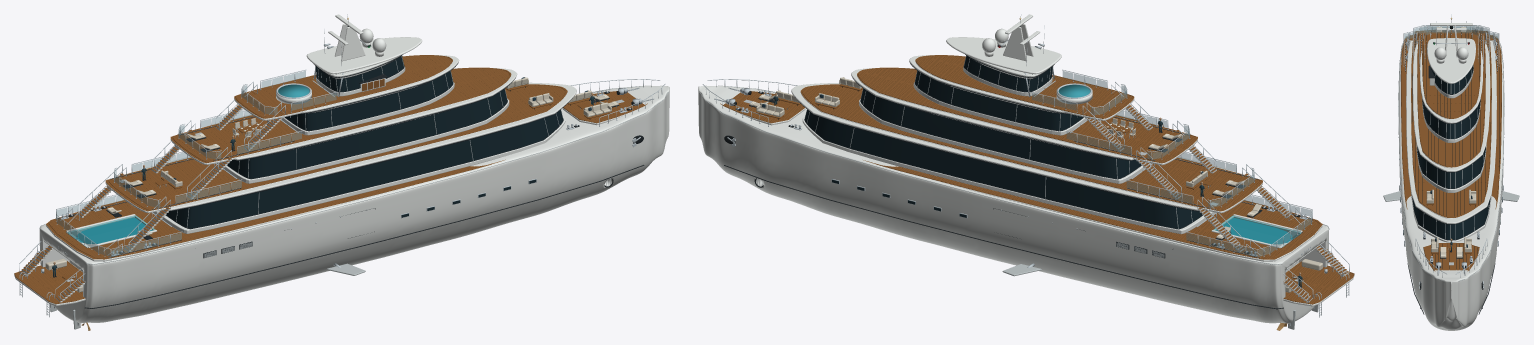
The model's file is ATLAS_256_Exterior_Web.glb.
3 views of the same model, side by side, from view 1: azimuth 30°, elevation 25°; view 2: azimuth 150°, elevation 25°; view 3: azimuth 270°, elevation 25° (orthographic). The views are drawn at different scales.
Visible parts, largest first — view 1: Hull_Web_Mesh, Decks_Web_Mesh, Glazing_Web_Mesh, Superstructure_Web_Mesh, Railings_Web_Mesh, Stern_Web_Mesh, MastElectronics_Web_Mesh, Furniture_Web_Mesh, ExteriorFixtures_Web_Mesh, MooringHardware_Web_Mesh, BeachClub_Web_Mesh, RunningGear_Web_Mesh; view 2: Hull_Web_Mesh, Decks_Web_Mesh, Glazing_Web_Mesh, Superstructure_Web_Mesh, Railings_Web_Mesh, Stern_Web_Mesh, MastElectronics_Web_Mesh, Furniture_Web_Mesh, ExteriorFixtures_Web_Mesh, MooringHardware_Web_Mesh, BeachClub_Web_Mesh, RunningGear_Web_Mesh; view 3: Decks_Web_Mesh, Hull_Web_Mesh, Superstructure_Web_Mesh, Glazing_Web_Mesh, MastElectronics_Web_Mesh, Railings_Web_Mesh, Furniture_Web_Mesh, MooringHardware_Web_Mesh, RunningGear_Web_Mesh, ExteriorFixtures_Web_Mesh, Stern_Web_Mesh.
Part boxes in pixels (x1=…): Hull_Web_Mesh: x1=39, y1=85, x2=669, y2=323; Decks_Web_Mesh: x1=14, y1=55, x2=647, y2=306; Glazing_Web_Mesh: x1=152, y1=56, x2=563, y2=229; Superstructure_Web_Mesh: x1=124, y1=54, x2=576, y2=233; Railings_Web_Mesh: x1=19, y1=69, x2=665, y2=302; Stern_Web_Mesh: x1=19, y1=83, x2=311, y2=302; MastElectronics_Web_Mesh: x1=306, y1=14, x2=422, y2=96; Furniture_Web_Mesh: x1=106, y1=74, x2=619, y2=240; ExteriorFixtures_Web_Mesh: x1=55, y1=99, x2=624, y2=281; MooringHardware_Web_Mesh: x1=41, y1=87, x2=653, y2=293; BeachClub_Web_Mesh: x1=19, y1=241, x2=82, y2=317; RunningGear_Web_Mesh: x1=50, y1=178, x2=613, y2=330; Hull_Web_Mesh: x1=698, y1=85, x2=1329, y2=323; Decks_Web_Mesh: x1=720, y1=55, x2=1354, y2=306; Glazing_Web_Mesh: x1=804, y1=55, x2=1216, y2=229; Superstructure_Web_Mesh: x1=791, y1=54, x2=1243, y2=234; Railings_Web_Mesh: x1=702, y1=69, x2=1349, y2=302; Stern_Web_Mesh: x1=1056, y1=83, x2=1349, y2=302; MastElectronics_Web_Mesh: x1=946, y1=14, x2=1061, y2=97; Furniture_Web_Mesh: x1=749, y1=77, x2=1262, y2=240; ExteriorFixtures_Web_Mesh: x1=743, y1=99, x2=1312, y2=281; MooringHardware_Web_Mesh: x1=714, y1=87, x2=1327, y2=293; BeachClub_Web_Mesh: x1=1285, y1=241, x2=1349, y2=317; RunningGear_Web_Mesh: x1=754, y1=178, x2=1318, y2=330; Decks_Web_Mesh: x1=1400, y1=30, x2=1502, y2=271; Hull_Web_Mesh: x1=1398, y1=34, x2=1504, y2=330; Superstructure_Web_Mesh: x1=1406, y1=41, x2=1496, y2=242; Glazing_Web_Mesh: x1=1399, y1=64, x2=1503, y2=246; MastElectronics_Web_Mesh: x1=1427, y1=14, x2=1475, y2=83; Railings_Web_Mesh: x1=1403, y1=25, x2=1499, y2=277; Furniture_Web_Mesh: x1=1426, y1=27, x2=1476, y2=259; MooringHardware_Web_Mesh: x1=1406, y1=40, x2=1496, y2=289; RunningGear_Web_Mesh: x1=1383, y1=191, x2=1519, y2=308; ExteriorFixtures_Web_Mesh: x1=1398, y1=33, x2=1504, y2=265; Stern_Web_Mesh: x1=1407, y1=39, x2=1495, y2=50.
Bounding box in the file's own units: 78.21 × 28.24 × 16.67.
Materials: 19 (1 with a texture image).
